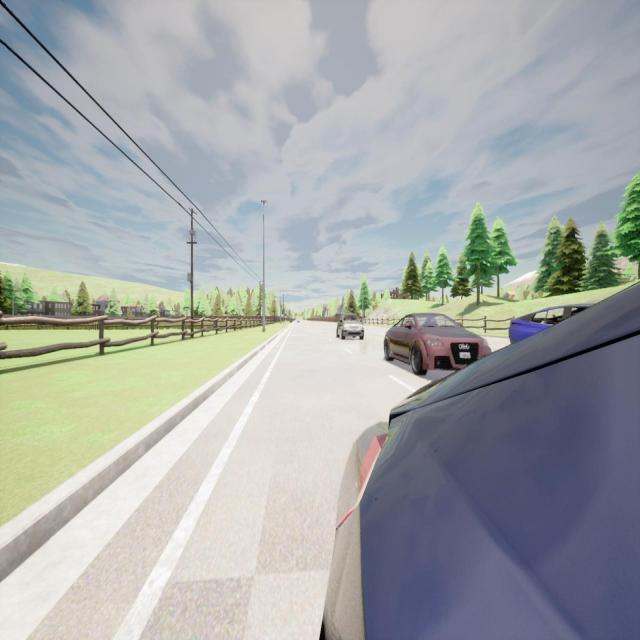Vehicle: (324, 282, 640, 640), (384, 313, 491, 376), (509, 303, 595, 344), (336, 313, 366, 339), (297, 320, 300, 323)
